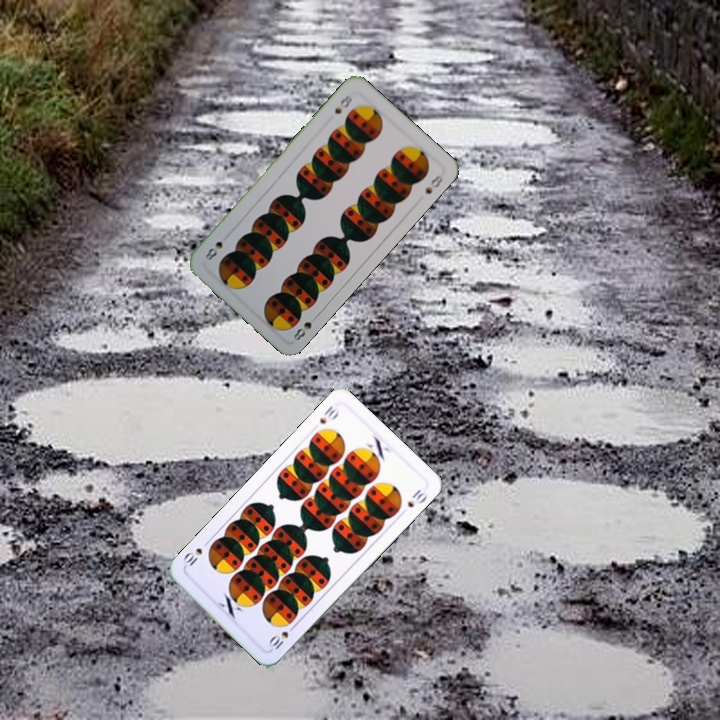S10: (265, 620, 299, 653), (315, 401, 341, 426)
S8: (289, 310, 321, 343), (330, 90, 355, 116)
